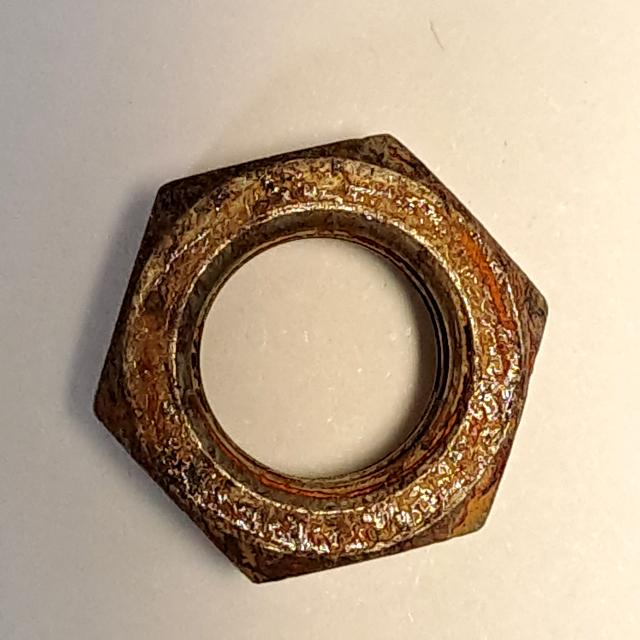Rust: (83, 123, 558, 595)
